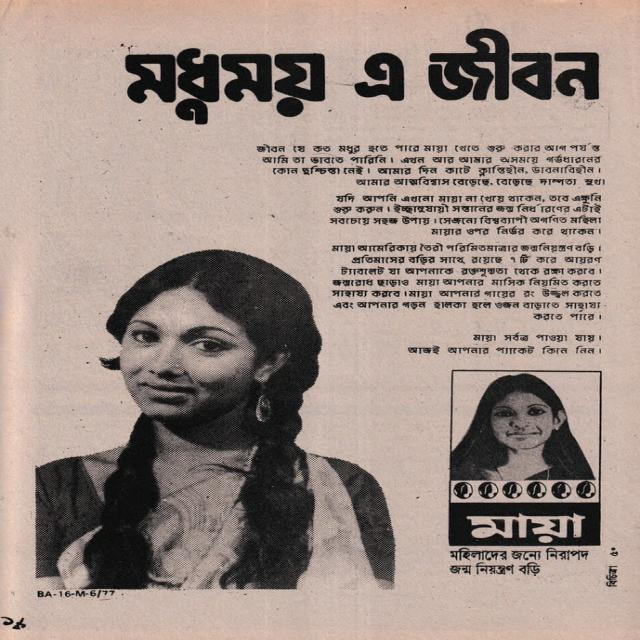advertisement: (23, 23, 606, 605)
page number: (608, 546, 619, 558)
text: (0, 613, 32, 633), (604, 564, 619, 588)
